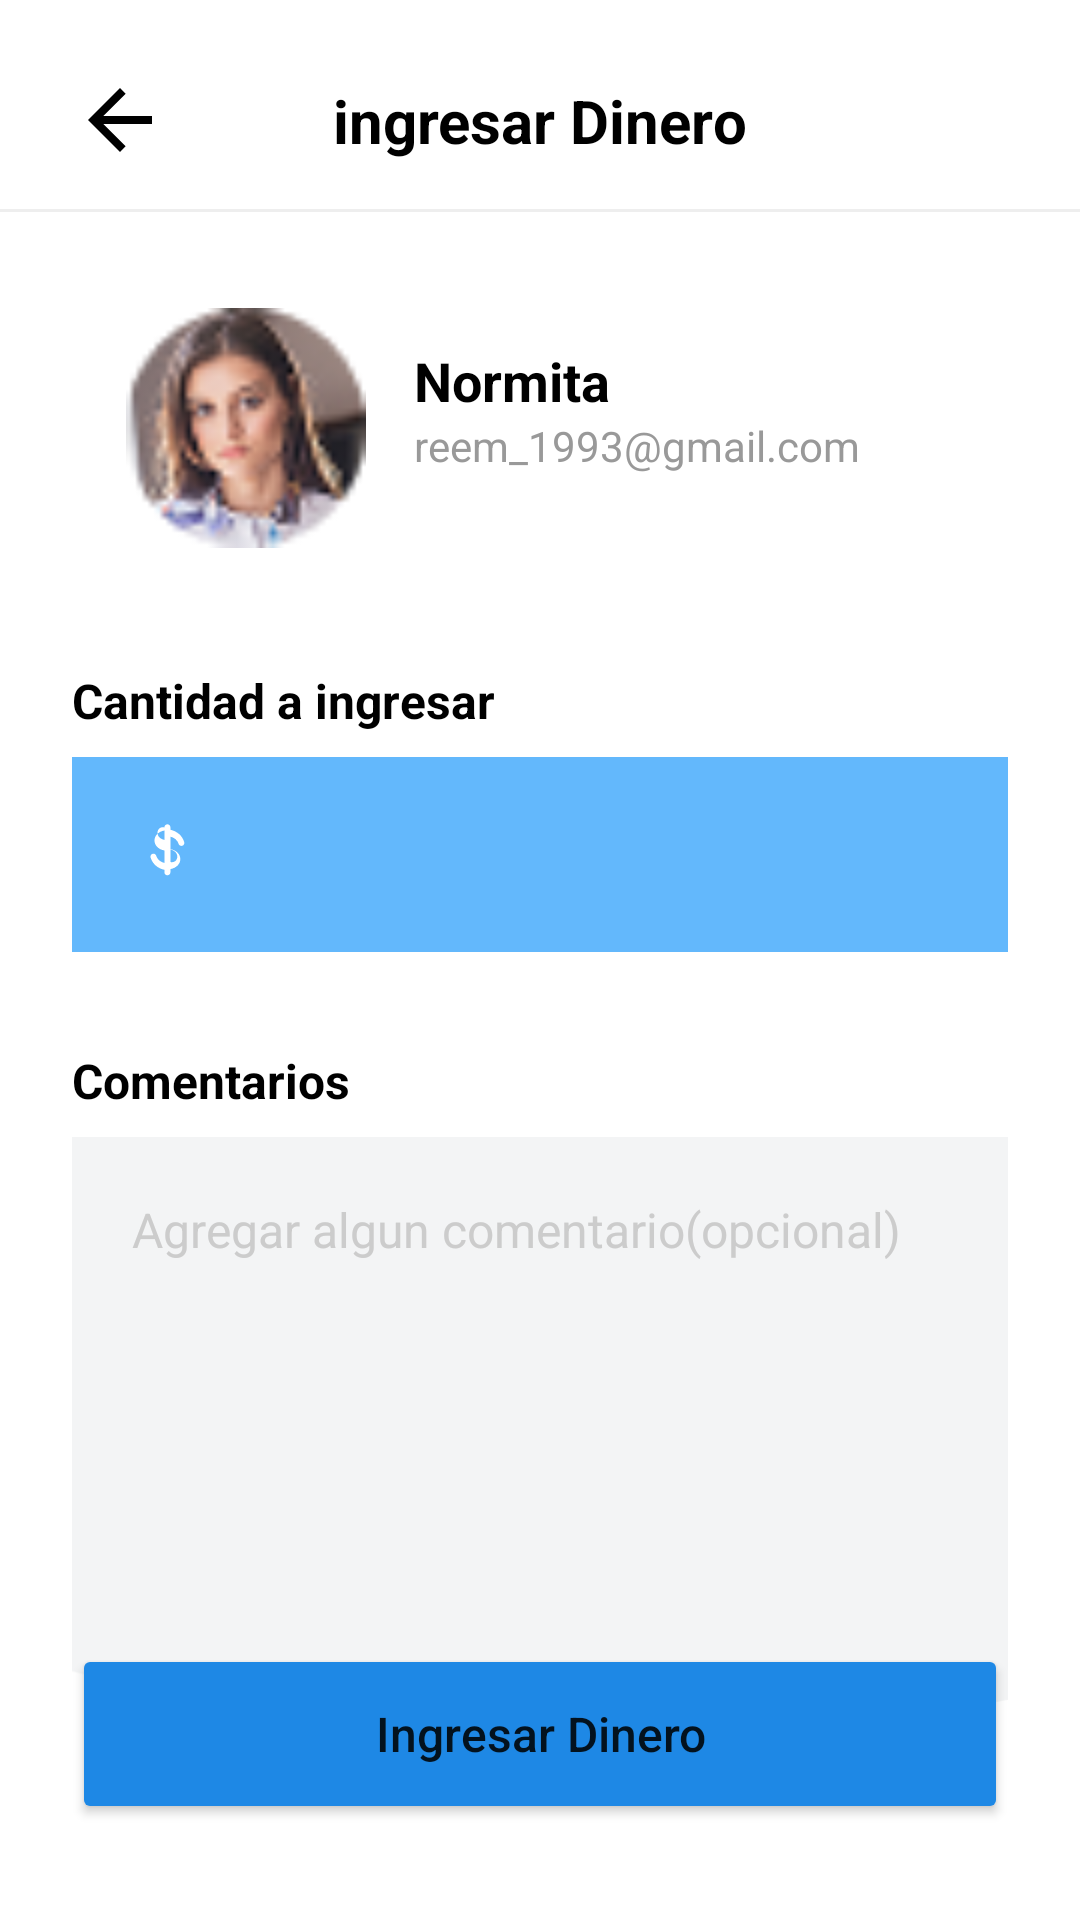

Icons on this 1080x1920 Android screen, each with the point to tap as point (x, y):
back: point (120, 120)
foto perfil: point (246, 428)
